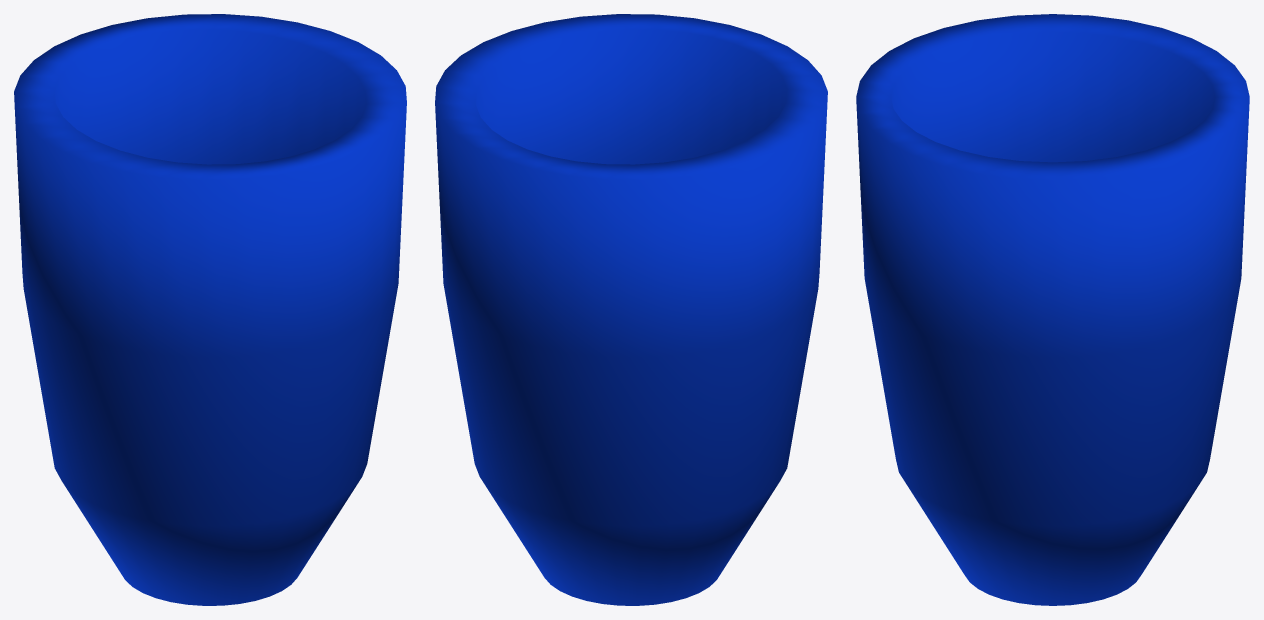
Rendered from bar_blender_01.obj.
3 renders of one model, left to right at view 1: azimuth 30°, elevation 25°; view 2: azimuth 150°, elevation 25°; view 3: azimuth 270°, elevation 25°, orthographic.
Visible parts, largest first — view 1: bar_blender; view 2: bar_blender; view 3: bar_blender.
Boxes of the visible parts, bbox=[...] form: bar_blender: bbox=[14, 14, 406, 605]; bar_blender: bbox=[435, 14, 827, 605]; bar_blender: bbox=[856, 14, 1249, 605].
Size of the model in its own units: 0.2397 by 0.3163 by 0.2397.
